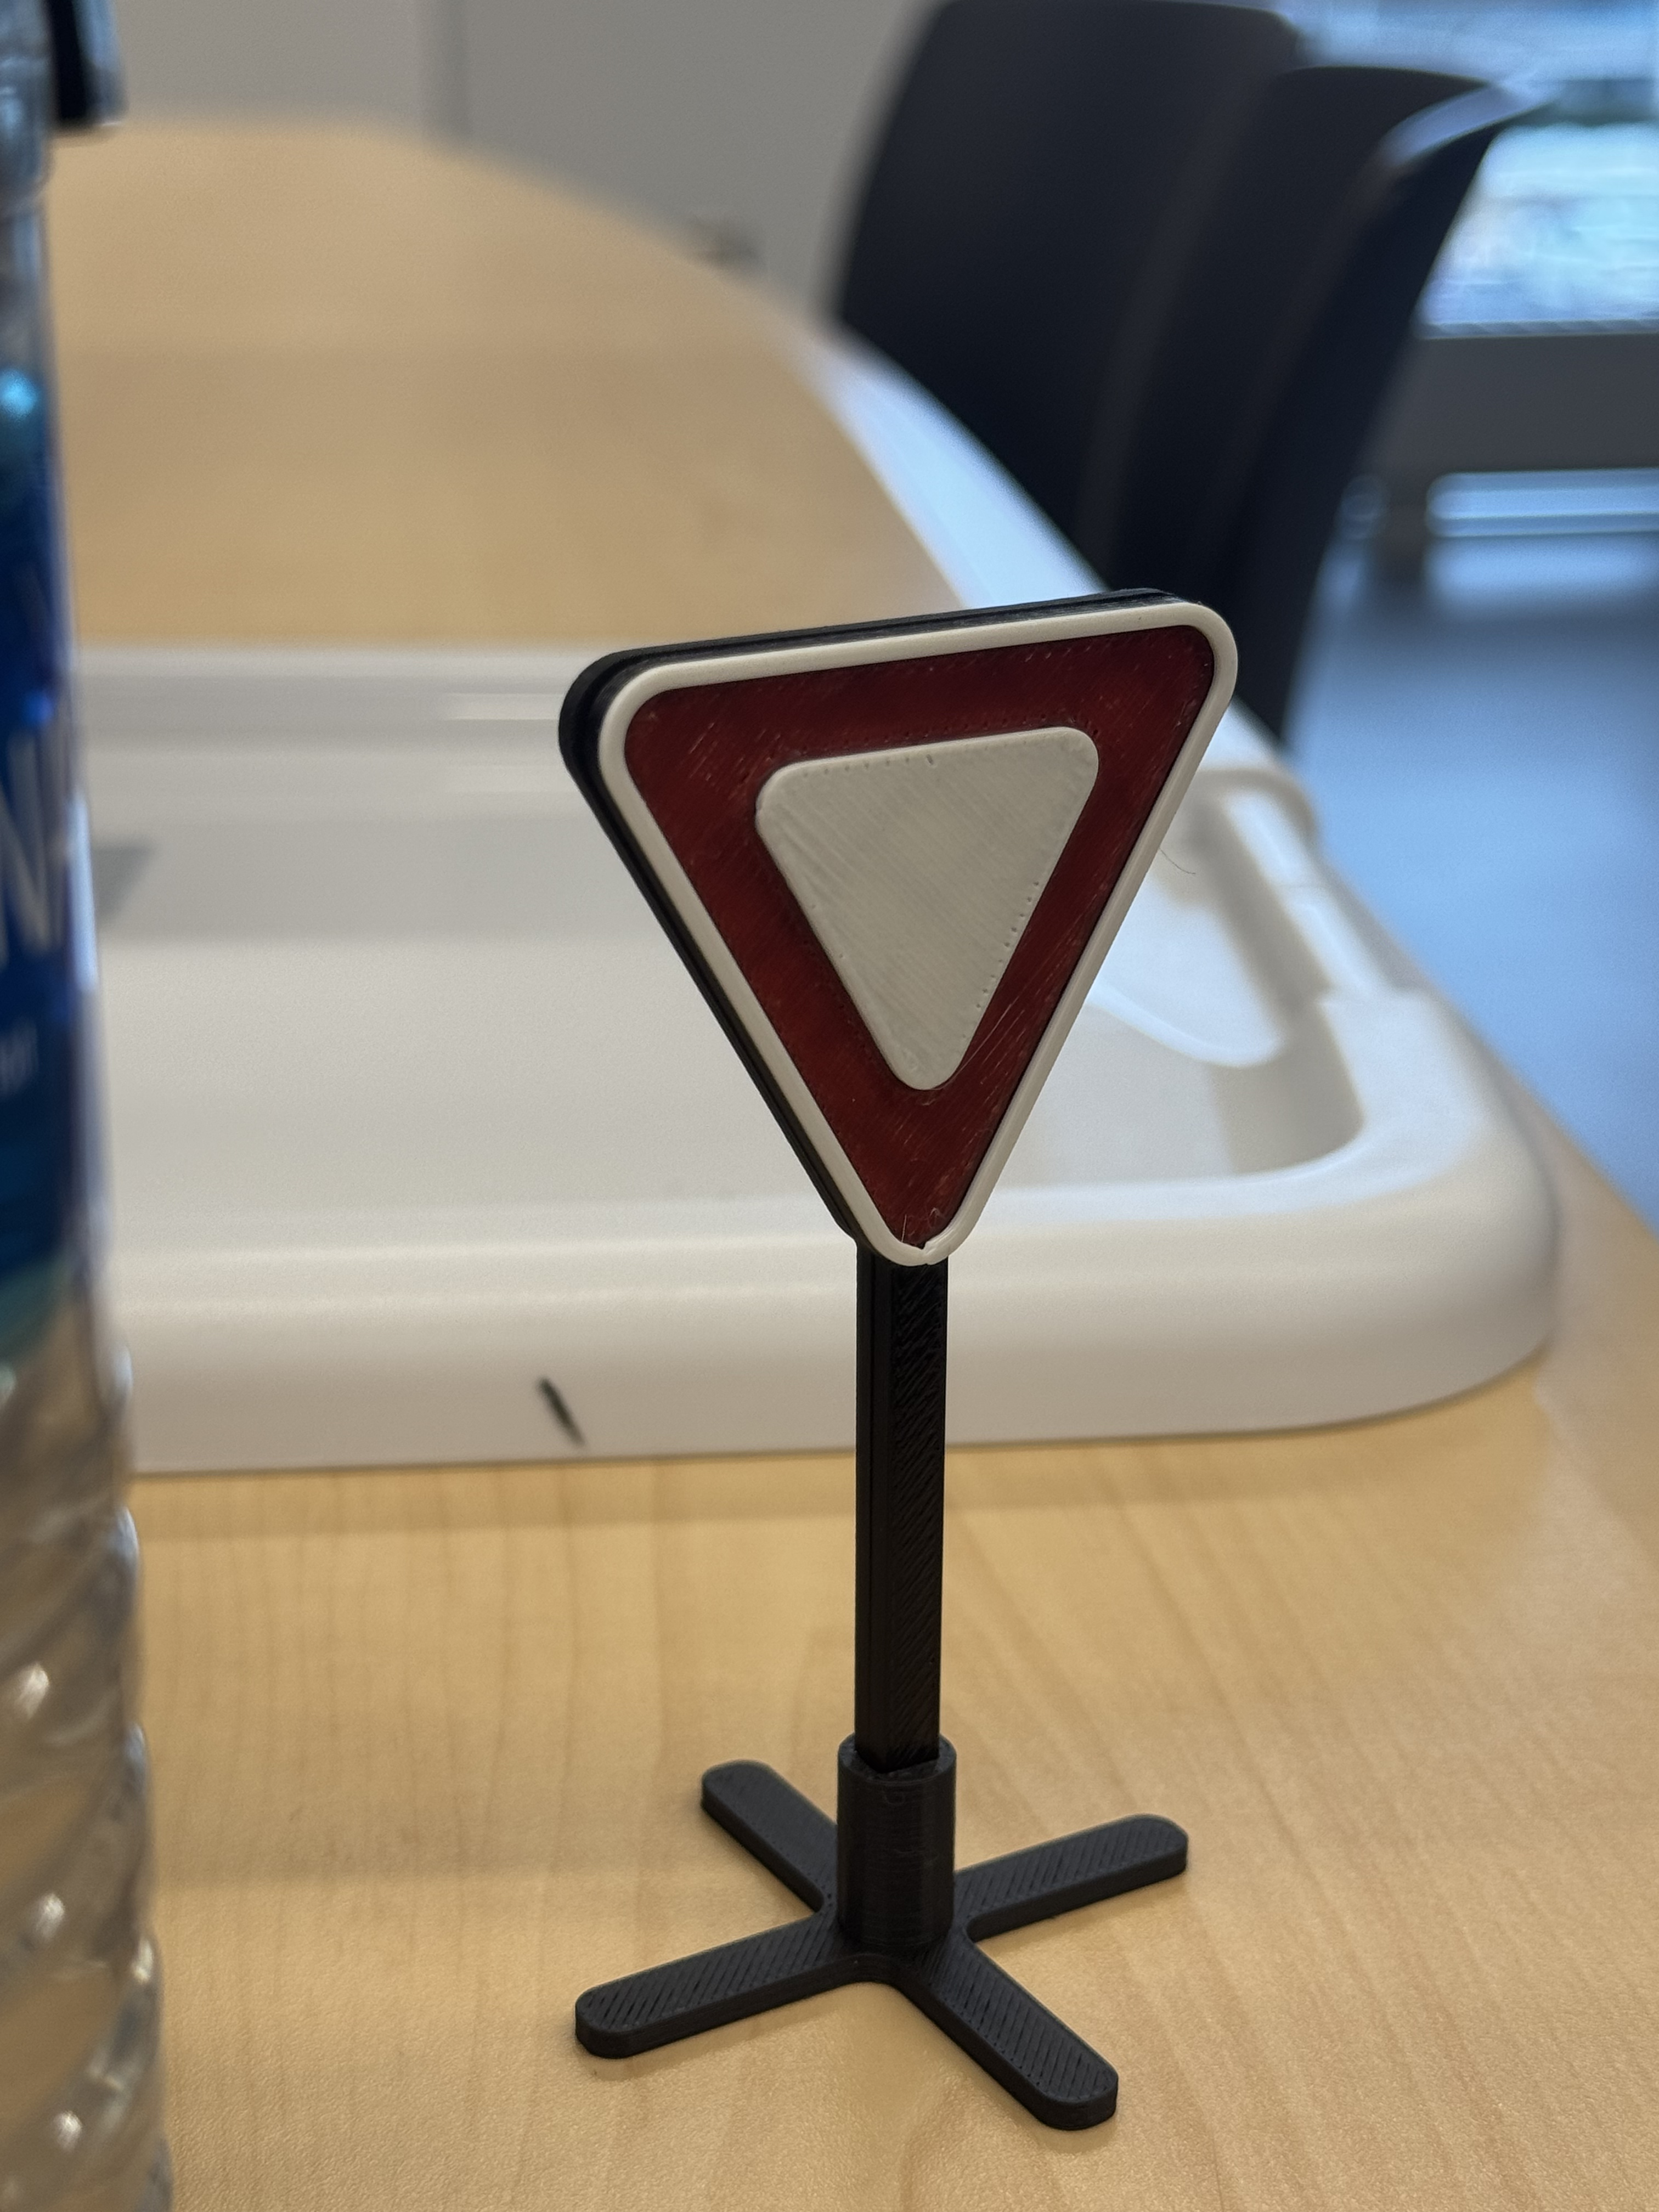sign_yield: (558, 568, 1248, 2139)
